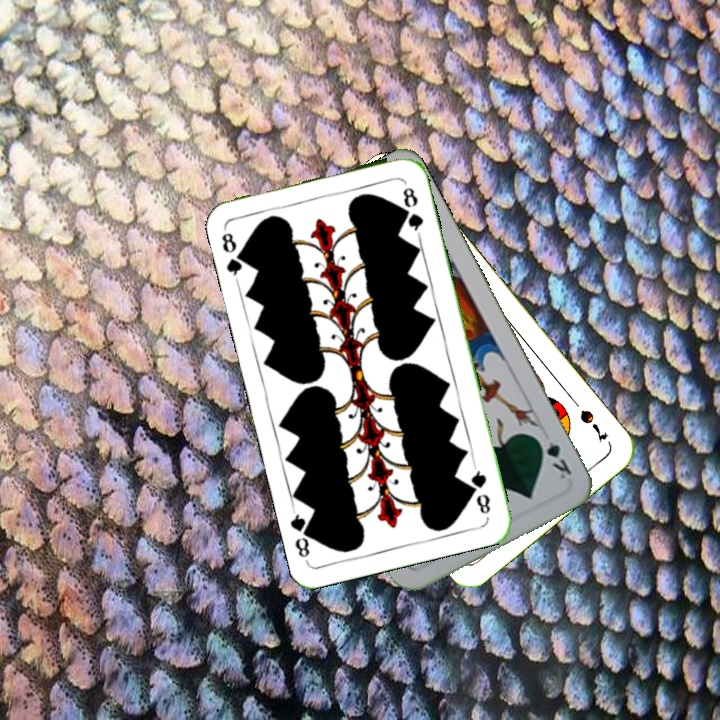G8: (217, 228, 250, 282), (467, 461, 493, 517)
GK: (532, 431, 575, 482)
S7: (575, 406, 610, 446)
